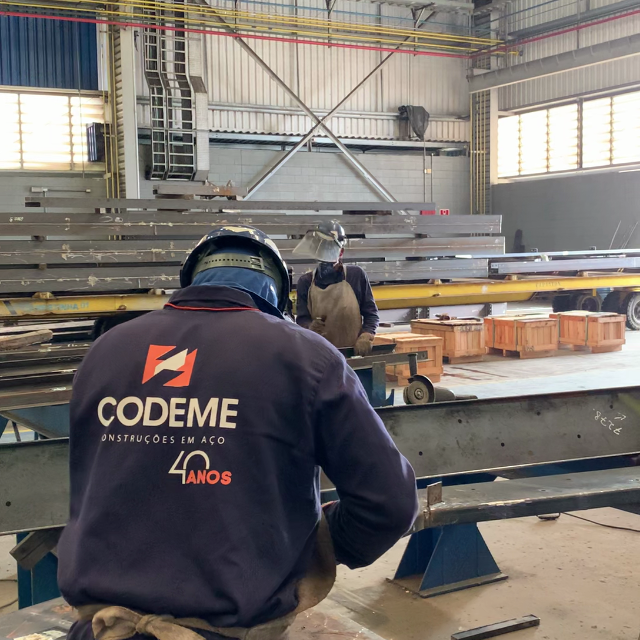face-shield: (288, 228, 340, 265)
helmet: (178, 224, 292, 312), (304, 219, 347, 247)
person: (58, 222, 409, 635), (294, 219, 379, 358)
